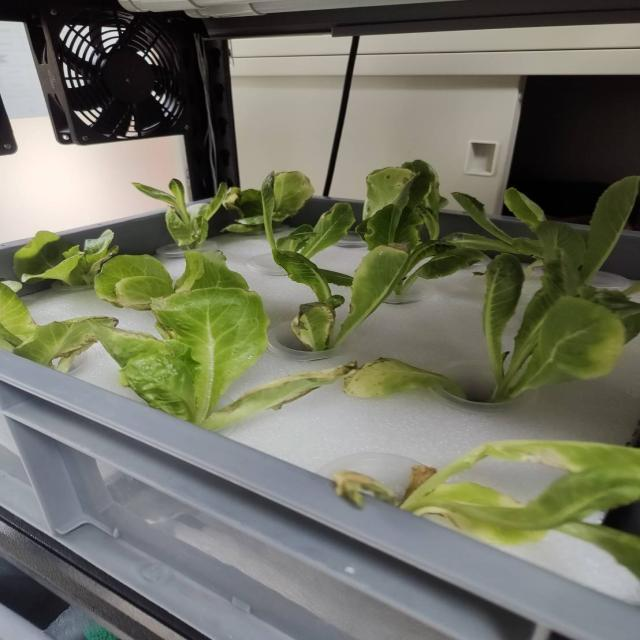Lettuce-Not-Ready-to-Harvest: (333, 440, 640, 576), (95, 288, 355, 429), (447, 176, 638, 296), (483, 254, 638, 401), (275, 245, 408, 351), (0, 284, 118, 372), (95, 251, 247, 310), (357, 160, 447, 253), (262, 174, 355, 259), (133, 179, 228, 250), (13, 230, 118, 286), (395, 240, 487, 294), (345, 359, 463, 398), (272, 171, 313, 226), (222, 188, 263, 232)
